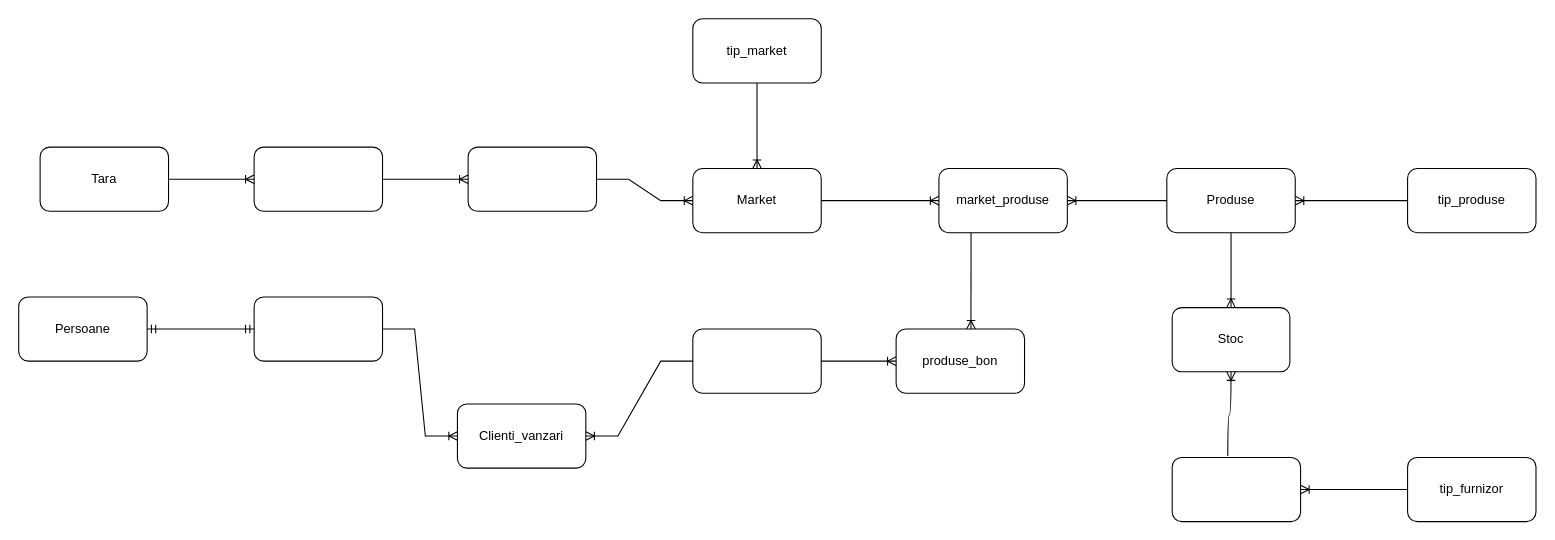
Some shapes in this 1555 by 540 pixel diagram are drawn without their labels. The shapes that lost their labels are listed below. From the top down, each one's centre as x and y in pixels, then its label:
At [318,178]: "Judet".
At [532,178]: "UAT".
At [318,328]: "Client".
At [756,360]: "Bon".
At [1236,489]: "Furnizor".
